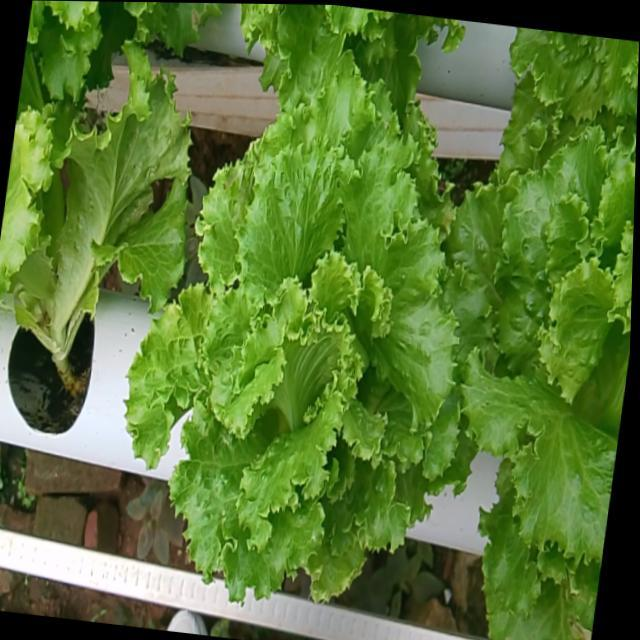Mature: (118, 86, 450, 617), (438, 137, 635, 584)
